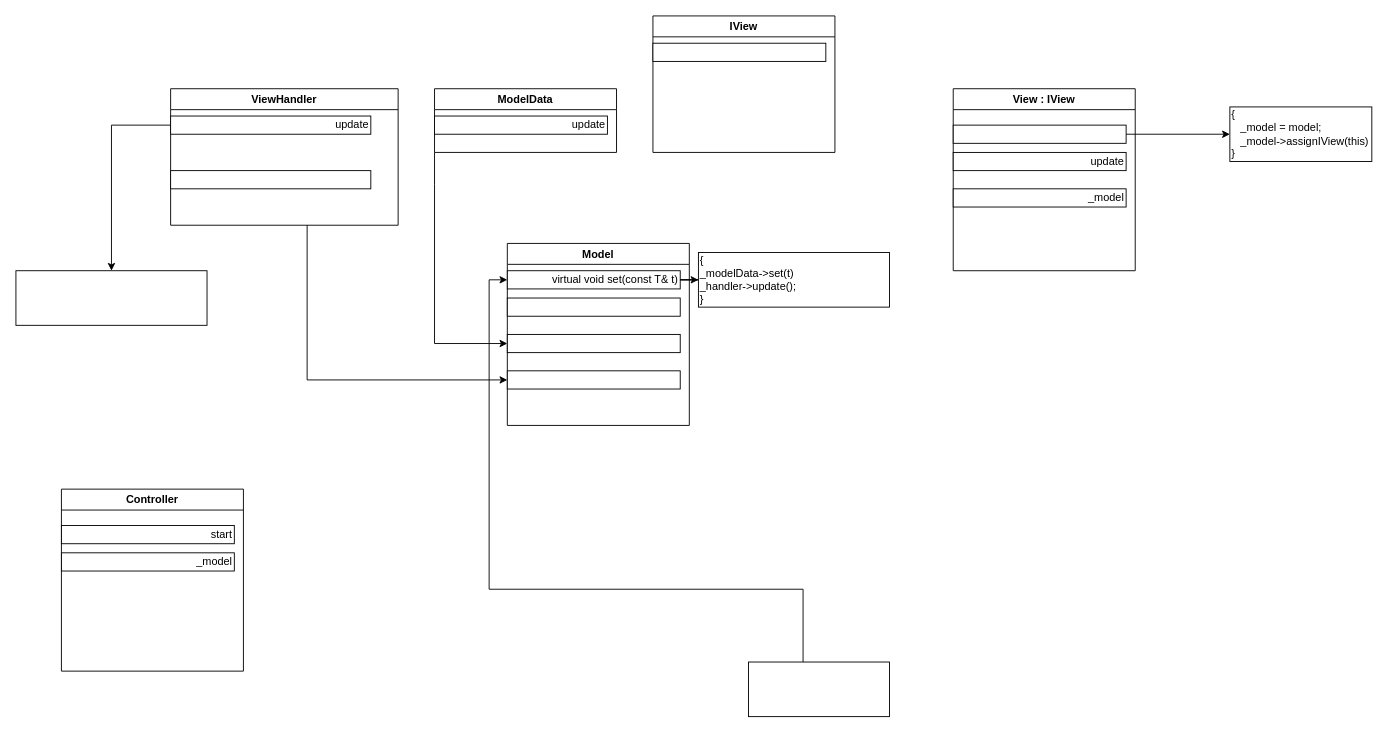
The diagram is 1388 pixels wide and 733 high, and some of its shapes have lost their labels. The centre of each missing label's shape, as x and y in pixels:
_handler: point 593,379
_model->set(ModelData): point 819,689
_modelData: point 593,343
_viewData->update();: point 111,297
IView* _viewData: point 270,179
ModelData& get(): point 593,306
View(const Model& ptrModel): point 1039,133
virtual void update() = 0: point 739,51
